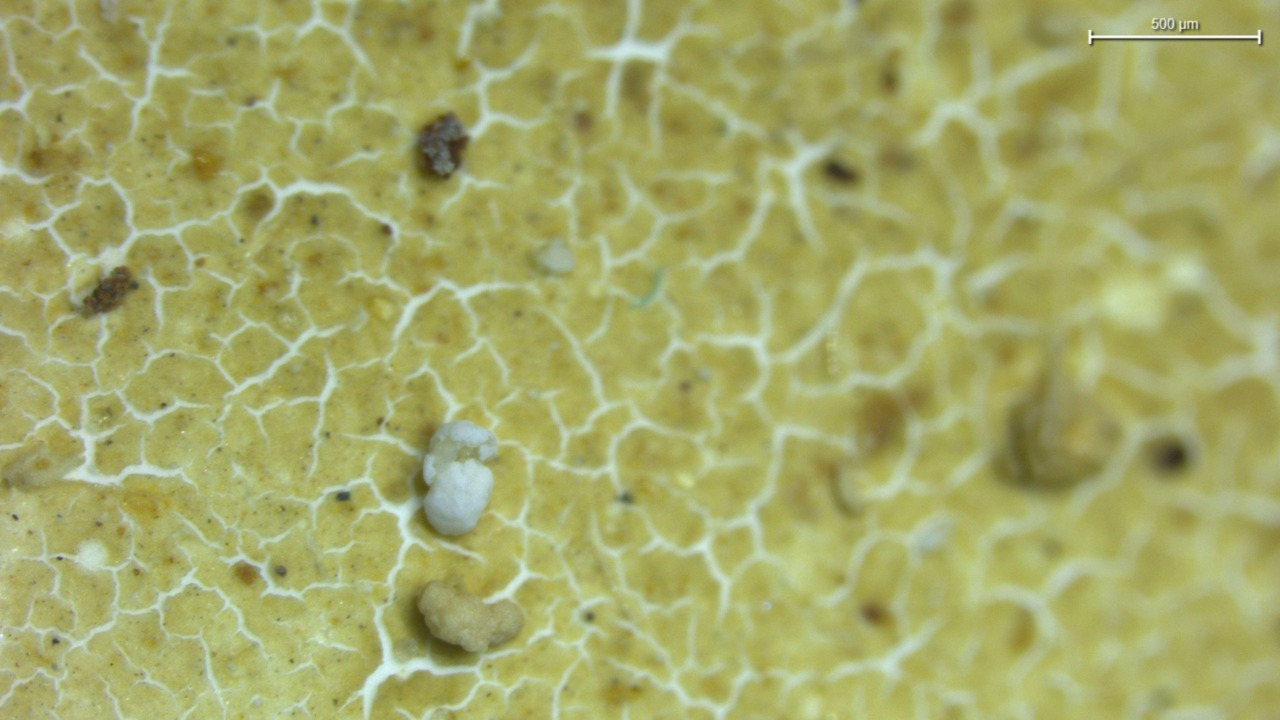microplastic_fragment: (421, 420, 497, 535), (417, 581, 524, 653), (417, 113, 468, 177)
